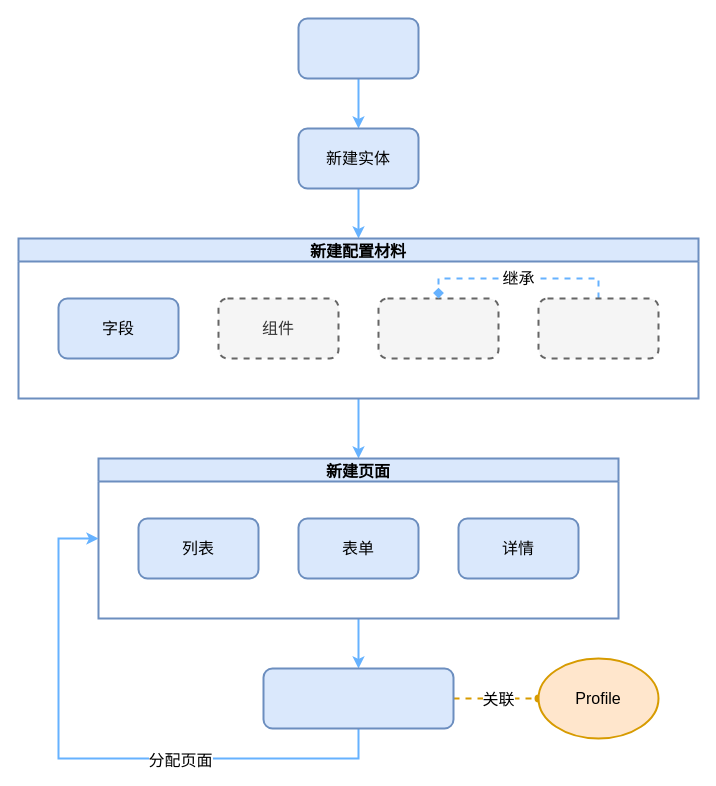
Image size: 716x786. Some labels were removed from this diagram. Each missing label, with the centre of its shape:
"字典" goes at point 598,328.
"新建Record Type" goes at point 358,698.
"新建租户" goes at point 358,48.
"服务" goes at point 438,328.
